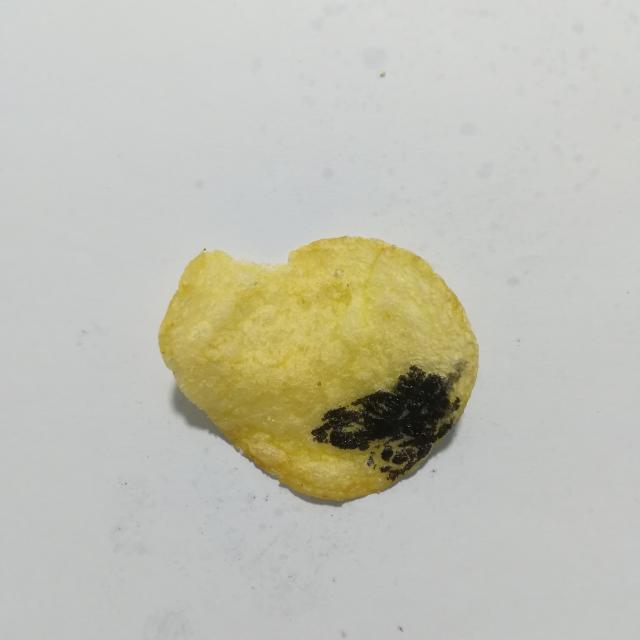chip: (158, 237, 478, 500)
damaged: (311, 365, 460, 460), (380, 449, 417, 479), (382, 447, 393, 461), (367, 454, 375, 466)
